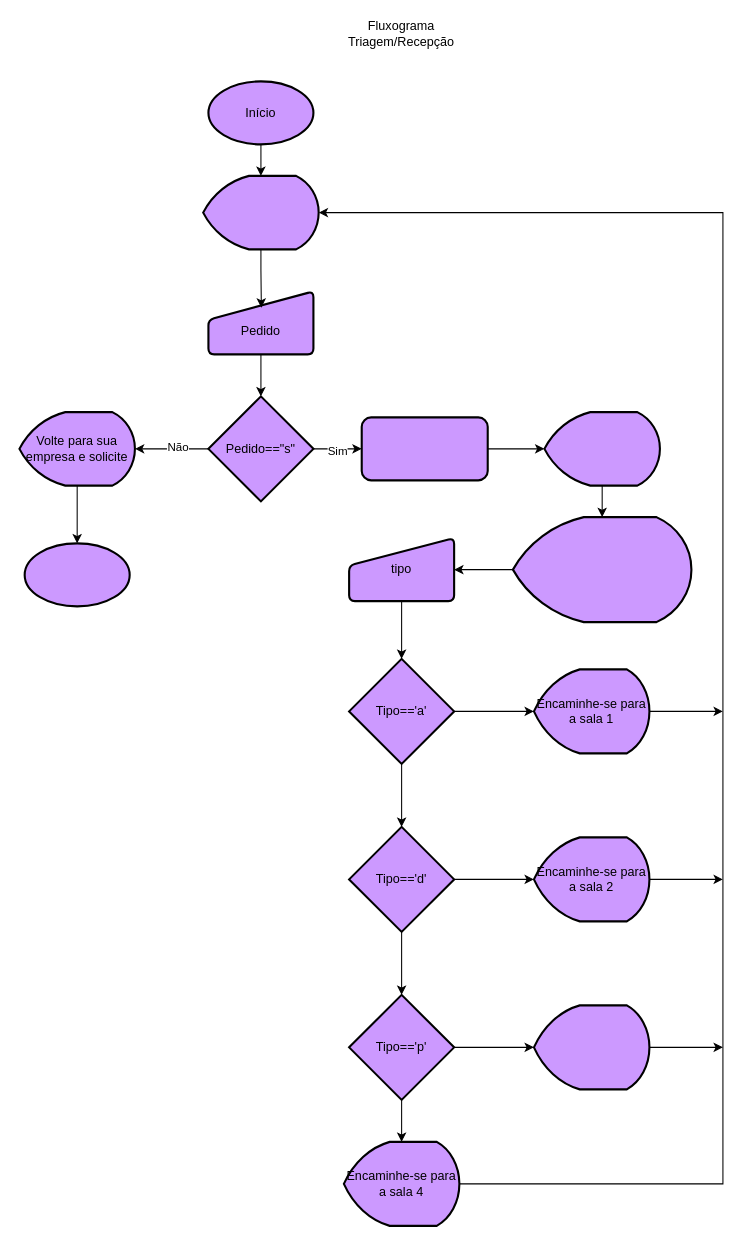
Some shapes in this 750 by 1244 pixel diagram are drawn without their labels. The centre of each missing label's shape, as x and y in pixels:
Encaminhe-se para a sala 3: [591,1047]
Fim: [76,574]
Gera uma senha: [424,448]
Possui pedido de exame s/n?: [260,212]
Qual o tipo de exame? a= admissonal d= demissional p= periódico o=outro: [601,569]
